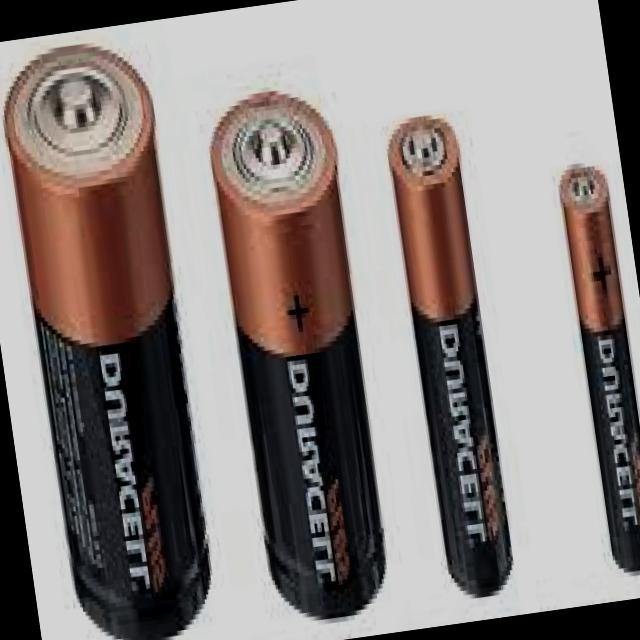B3: (0, 21, 245, 640), (190, 56, 412, 640), (358, 74, 544, 618), (528, 108, 640, 599)
